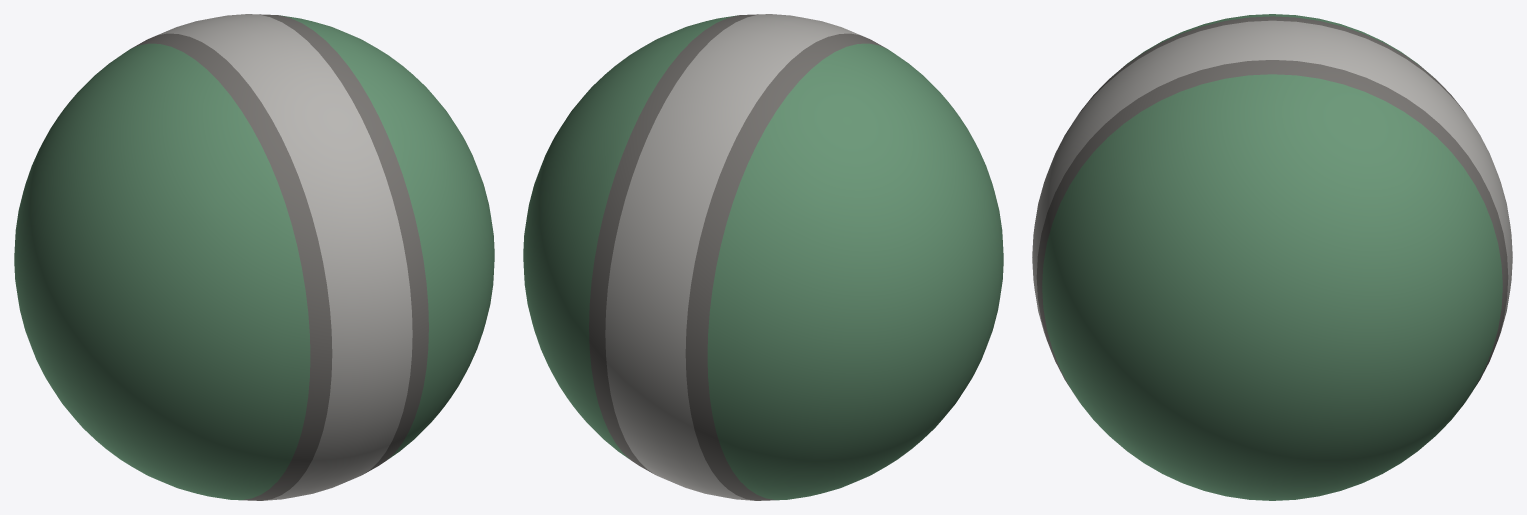
The model's file is Earth.fbx.
3 views of the same model, side by side, from view 1: azimuth 30°, elevation 25°; view 2: azimuth 150°, elevation 25°; view 3: azimuth 270°, elevation 25° (orthographic).
Visible parts, largest first — view 1: Earth; view 2: Earth; view 3: Earth.
Boxes of the visible parts, <box> form: Earth: <box>14,14,494,500</box>; Earth: <box>523,14,1003,500</box>; Earth: <box>1032,14,1512,500</box>.
Size of the model in its own units: 3618 by 3685 by 3618.
1 material, 1 textured.
